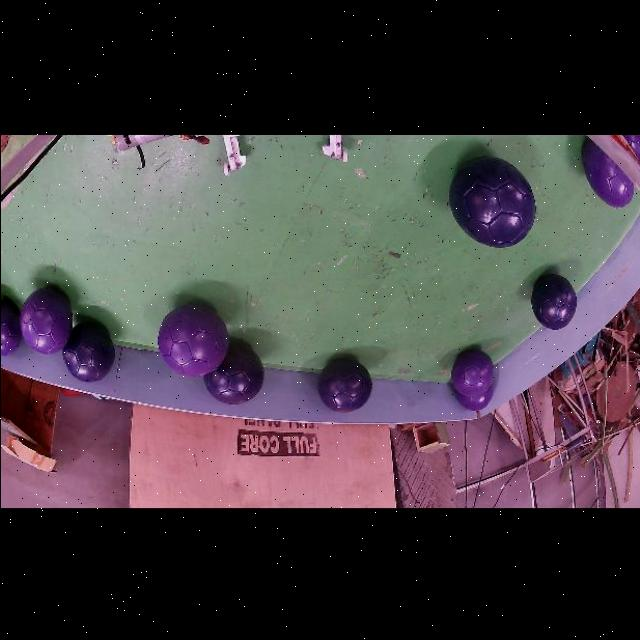B: (449, 156, 536, 247), (203, 342, 263, 404), (62, 322, 114, 382), (318, 359, 371, 412), (532, 274, 576, 329)
P: (157, 304, 228, 376), (581, 139, 635, 207), (19, 287, 72, 354), (451, 350, 493, 396), (0, 300, 20, 356), (457, 385, 493, 411), (624, 134, 640, 159)
